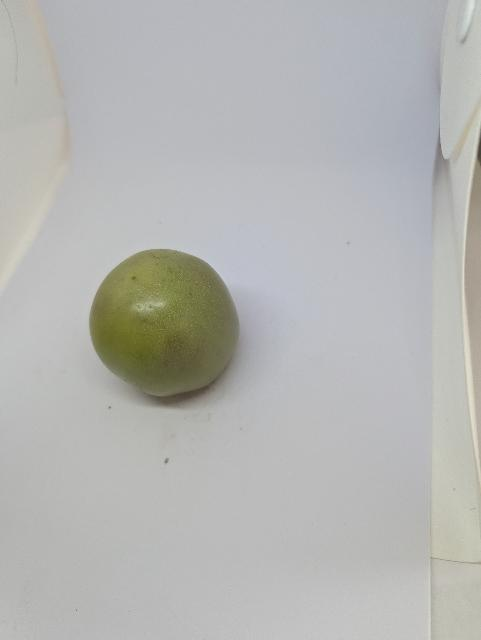green: (65, 220, 256, 421)
